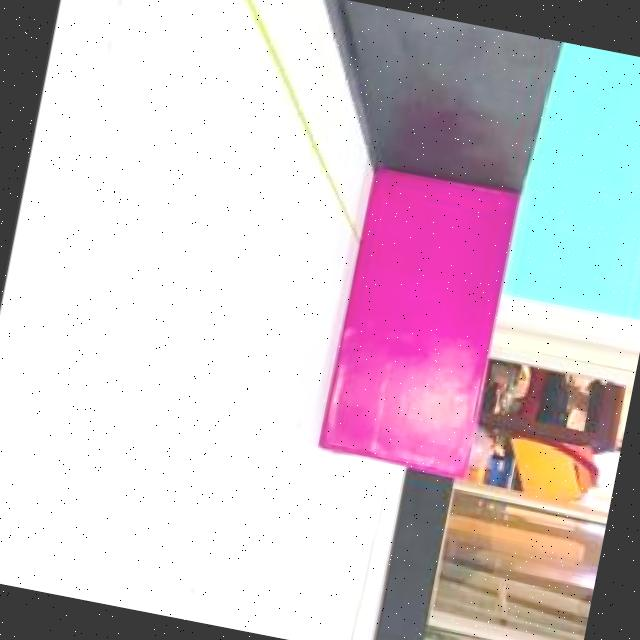xparking: (322, 168, 520, 474)
